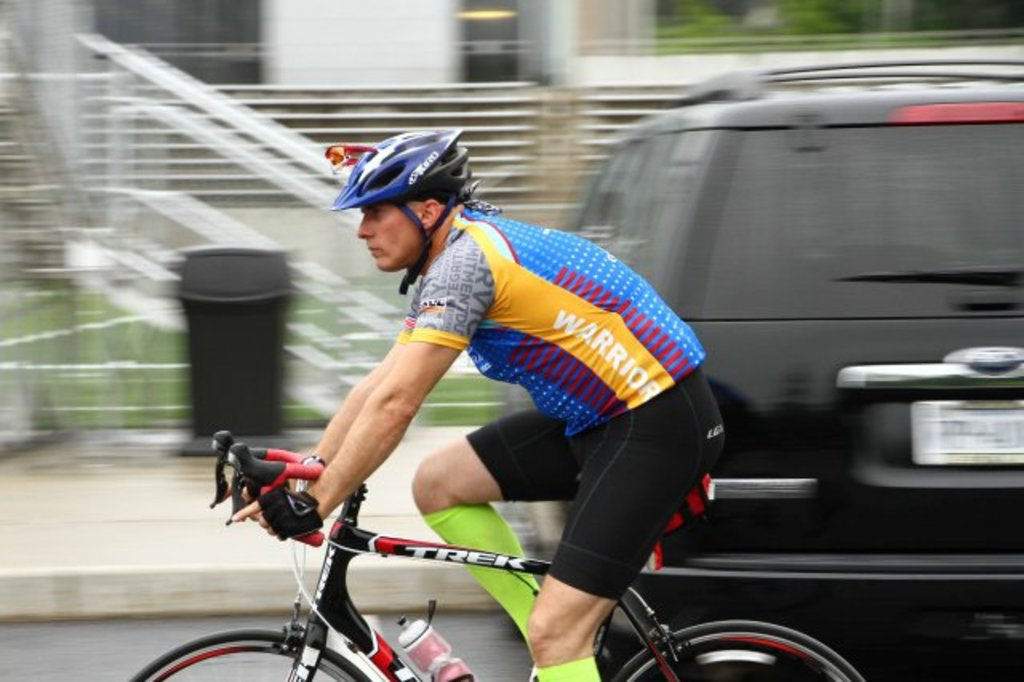Bike_away: (133, 423, 889, 682)
